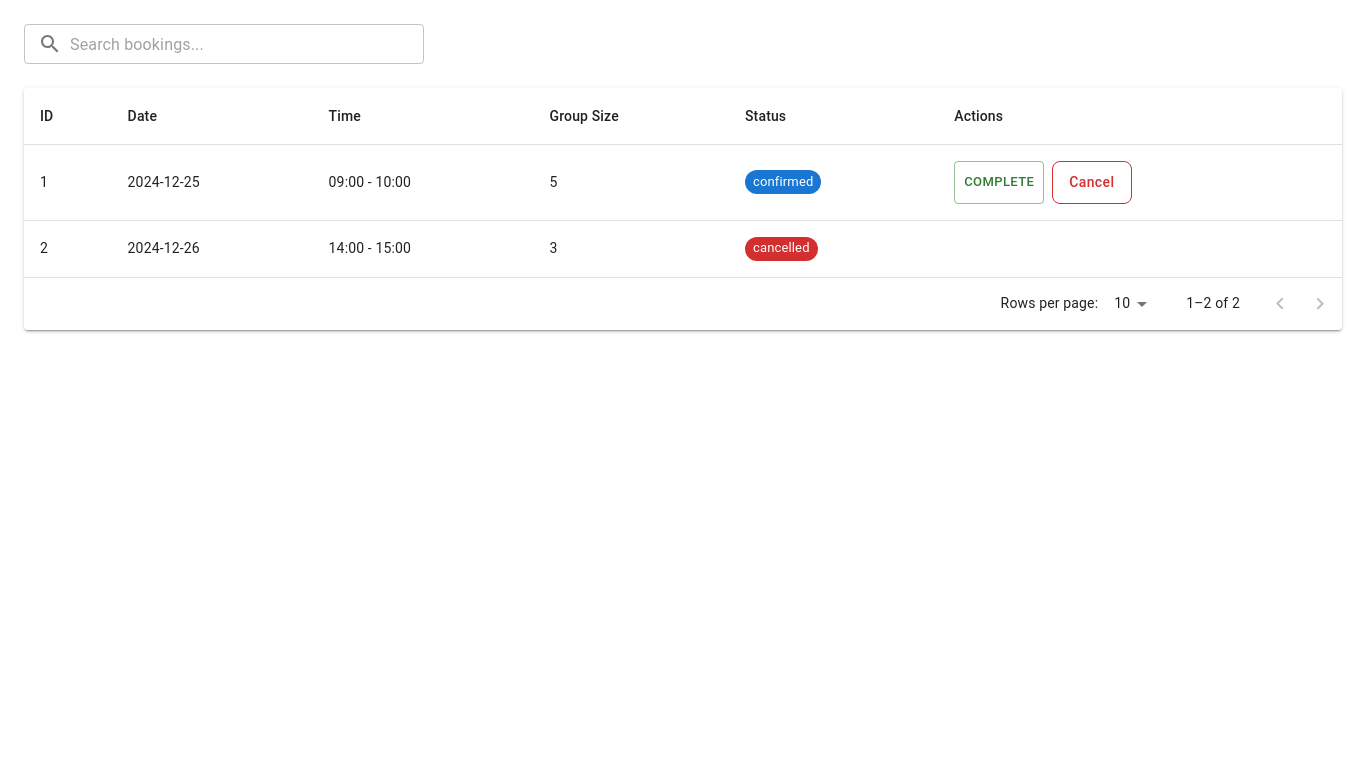
Test: AdminBookingManagement › Confirmation Dialog › should show confirmation dialog when Cancel button is clicked
Click the button "Cancel". click: (1092, 182)
box: 1052,161 -> 1132,204
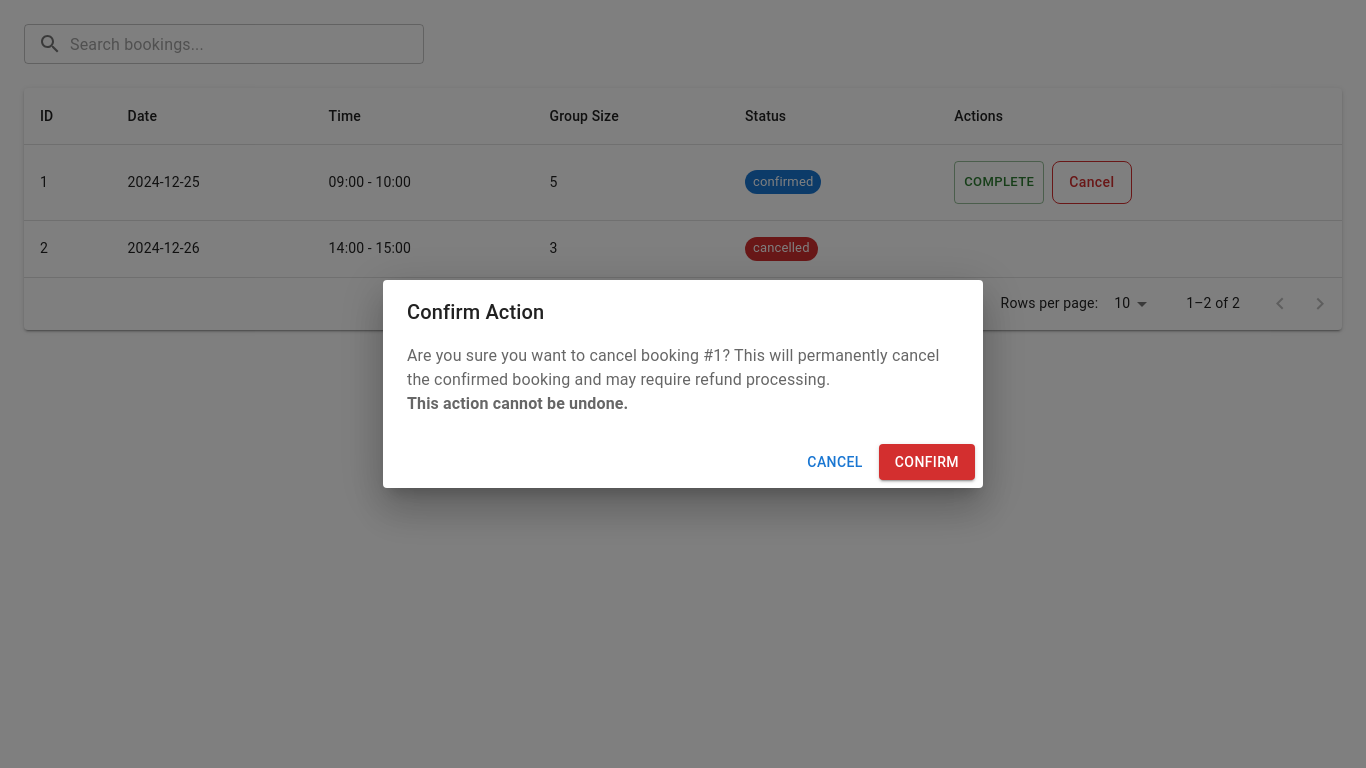
Result: the heading "Confirm Action" is shown at 407,300 -> 544,324
Result: the text "Are you sure you want to cancel booking #1?" is shown at 407,346 -> 713,365
